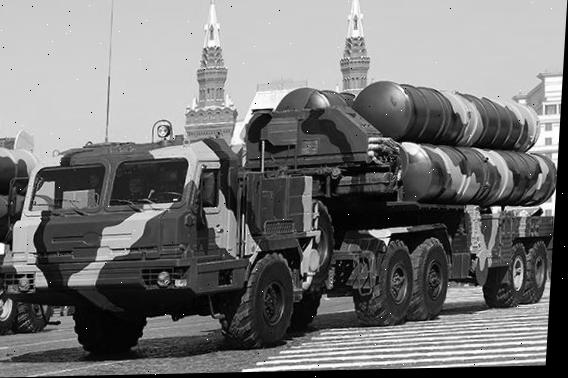rszo: (6, 50, 564, 347)
